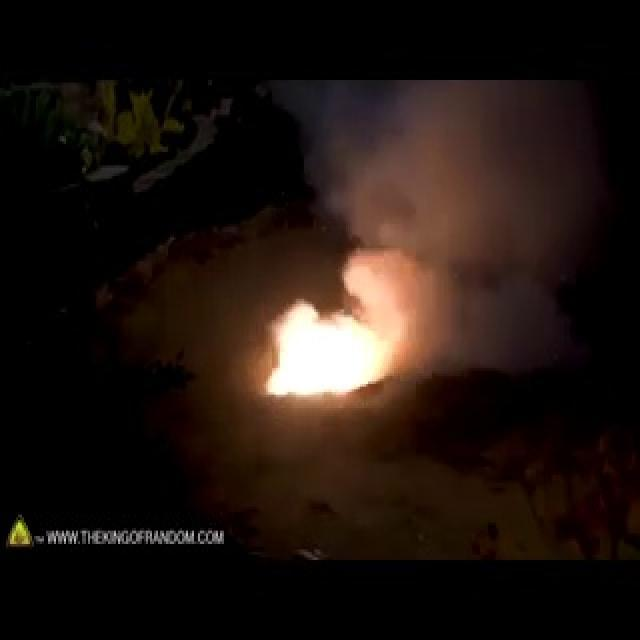fire: (253, 234, 407, 402)
